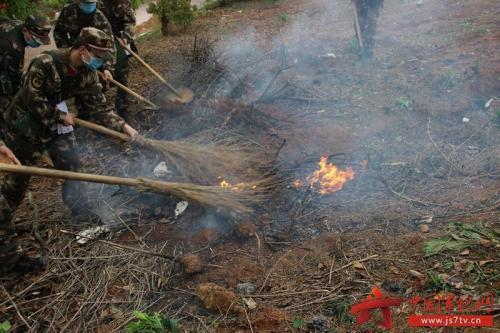fire: (293, 148, 351, 200), (214, 174, 255, 196)
